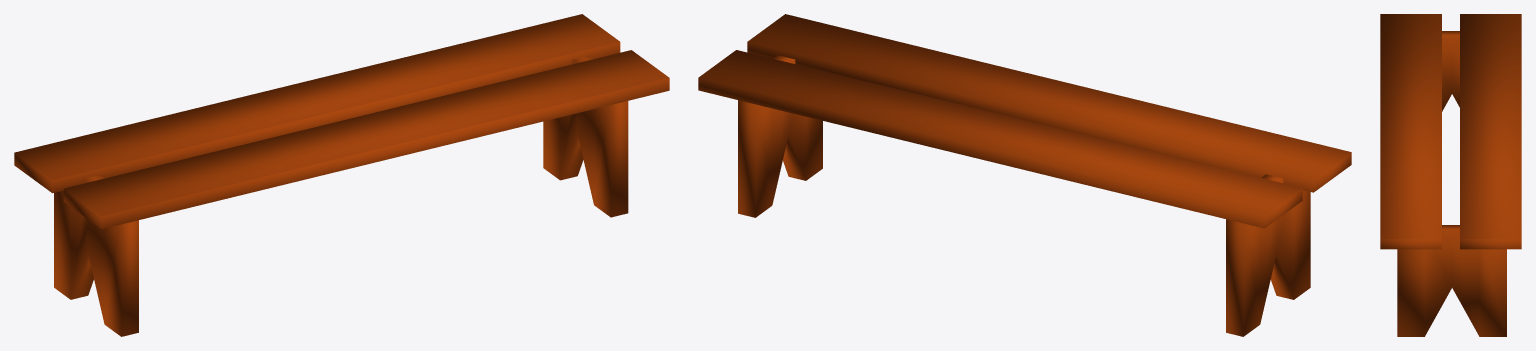
File: BancoPiquenique.fbx
The picture shows the model from 3 angles, left to right: view 1: azimuth 30°, elevation 25°; view 2: azimuth 150°, elevation 25°; view 3: azimuth 270°, elevation 25°; orthographic projection. The views are drawn at different scales.
Visible parts, largest first — view 1: Banco.002; view 2: Banco.002; view 3: Banco.002.
Part boxes in pixels (x1,y1,x2,y2): Banco.002: (14,14,669,336); Banco.002: (698,14,1351,336); Banco.002: (1380,14,1521,336).
Bounding box in the file's own units: 114 × 26.12 × 30.41.
